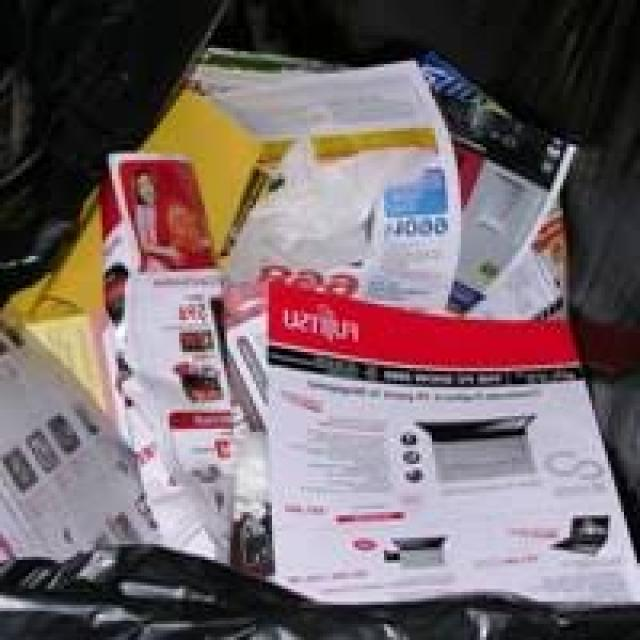paper: (263, 282, 640, 611), (44, 91, 257, 555), (221, 50, 584, 296), (0, 304, 162, 571)
